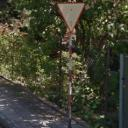preferencia: (52, 2, 89, 33)
